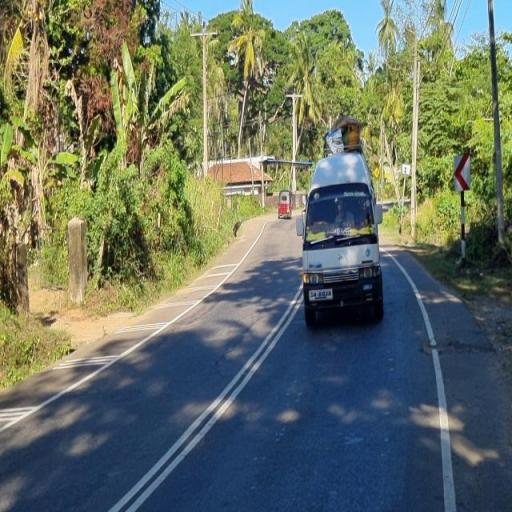double_white_line: (109, 289, 302, 510)
